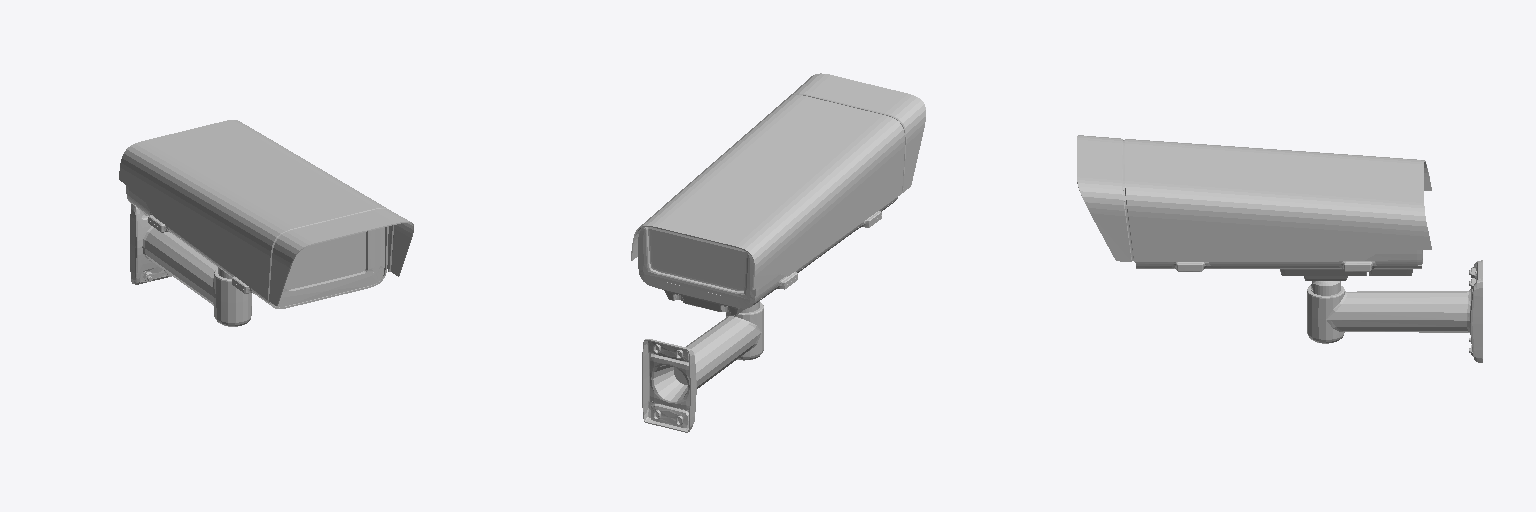
Rendered from security_camera_02_4k.obj.
3 views of the same model, side by side, from view 1: azimuth 30°, elevation 25°; view 2: azimuth 150°, elevation 25°; view 3: azimuth 270°, elevation 25° (orthographic).
Parts seen in each view (by area): view 1: security_camera_02, security_camera_02_mount; view 2: security_camera_02, security_camera_02_mount; view 3: security_camera_02, security_camera_02_mount.
Boxes of the visible parts, x1,y1,x2,y2 form: security_camera_02: [119, 120, 413, 308]; security_camera_02_mount: [130, 204, 251, 326]; security_camera_02: [631, 73, 925, 315]; security_camera_02_mount: [642, 301, 763, 432]; security_camera_02: [1077, 135, 1431, 289]; security_camera_02_mount: [1307, 260, 1482, 362].
Size of the model in its own units: 0.1407 by 0.2086 by 0.3938.